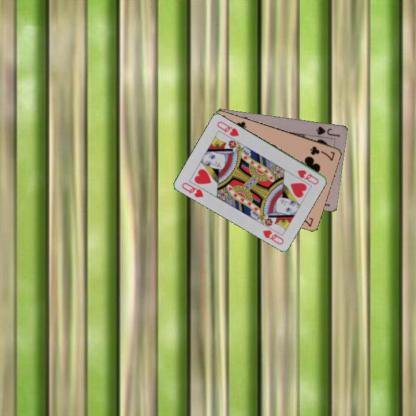7c: (308, 143, 336, 162)
Js: (314, 124, 341, 138)
Qh: (295, 167, 320, 186), (179, 180, 205, 198)
